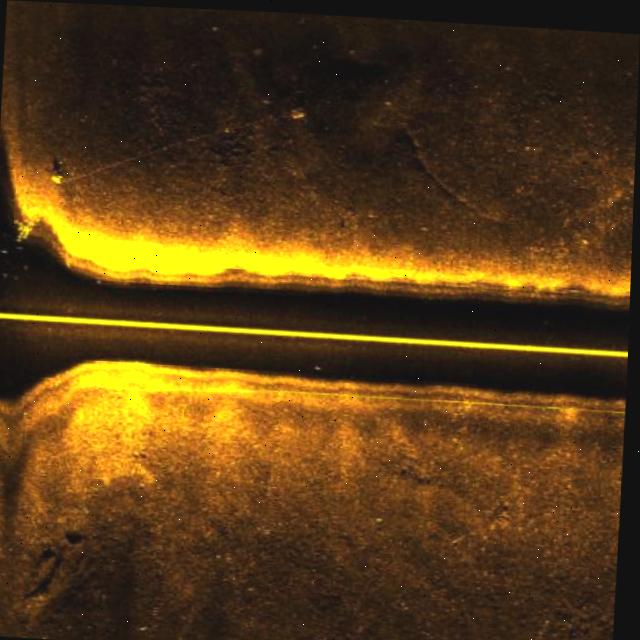mine: (282, 91, 312, 119), (46, 164, 66, 202)
